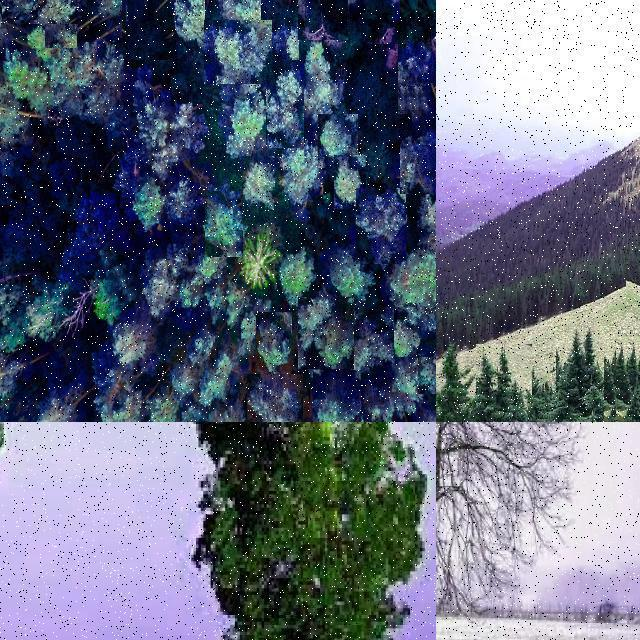tree: (195, 422, 425, 640), (436, 422, 564, 640), (528, 215, 640, 422), (390, 204, 436, 308), (476, 344, 532, 422), (204, 20, 272, 84), (436, 338, 484, 422), (556, 324, 604, 408), (298, 297, 354, 369), (299, 38, 345, 124), (612, 248, 640, 384), (356, 188, 406, 264), (249, 0, 299, 74), (205, 0, 261, 66), (266, 60, 304, 148), (398, 34, 436, 114), (241, 222, 283, 294), (180, 0, 248, 44), (282, 138, 322, 212), (126, 0, 174, 60), (325, 243, 373, 300), (399, 157, 436, 230), (163, 0, 205, 64), (224, 94, 266, 158), (247, 374, 303, 422), (406, 82, 436, 170), (205, 191, 243, 257), (313, 370, 361, 422), (532, 386, 600, 422), (616, 322, 640, 422), (366, 0, 418, 44), (242, 156, 278, 218), (404, 332, 436, 400), (318, 114, 358, 168), (400, 134, 436, 194), (400, 0, 436, 60), (278, 249, 314, 309), (256, 312, 292, 372), (394, 307, 436, 357), (298, 0, 348, 40), (399, 0, 436, 54), (78, 0, 122, 42), (80, 0, 136, 32), (334, 155, 366, 209), (62, 1, 115, 32), (604, 372, 636, 422), (339, 0, 383, 36), (45, 0, 77, 48), (412, 83, 436, 145), (320, 0, 360, 36), (400, 0, 436, 36), (29, 0, 81, 24), (624, 338, 640, 402), (408, 1, 436, 36), (628, 255, 640, 335), (418, 342, 436, 394), (419, 46, 436, 98), (416, 280, 436, 324), (626, 261, 640, 323), (628, 240, 640, 310), (628, 304, 640, 374), (412, 1, 436, 36), (418, 246, 436, 290), (2, 0, 38, 20), (274, 0, 314, 16), (419, 394, 436, 422), (418, 0, 436, 26), (632, 244, 640, 298), (418, 398, 436, 422), (632, 210, 640, 250)
